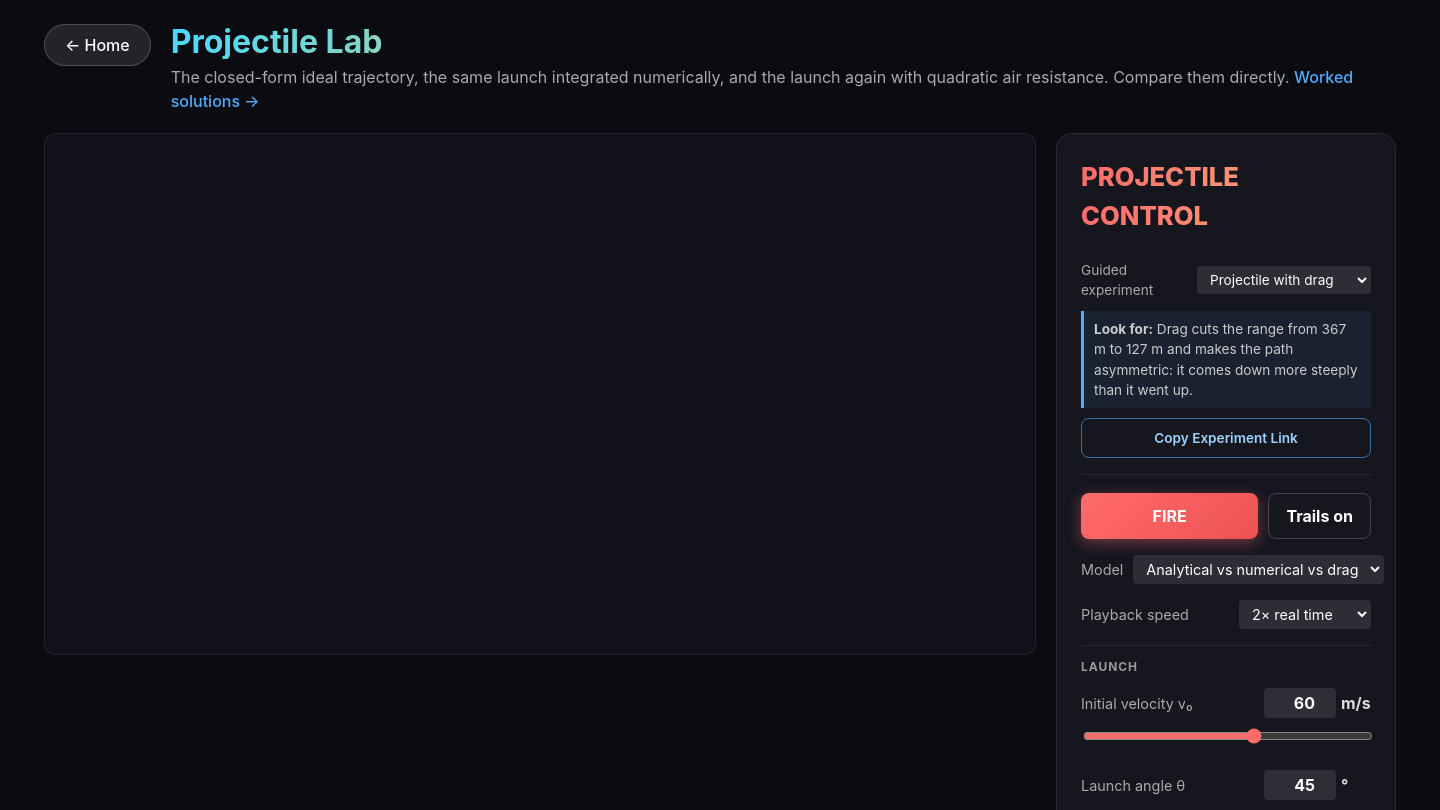
Projectile Lab › stop cancels the shot and unlocks the controls
This screenshot has width=1440, height=810.
What coordinates should you click on to do the following:
click the button "FIRE"
I would click on:
 (1170, 516)
Its box is [1081,493,1258,539].
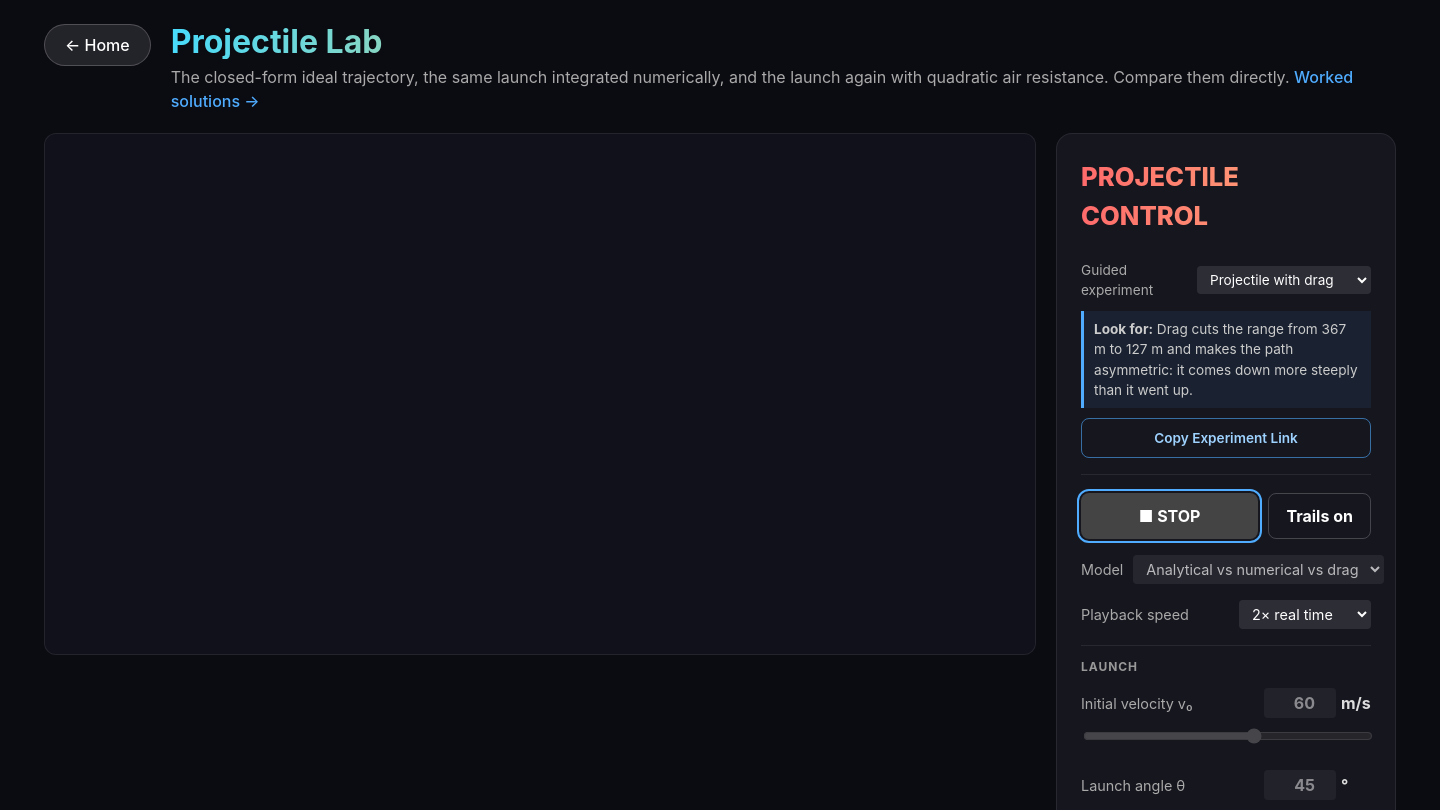
What coordinates should you click on to do the following:
click the button "■ STOP"
I would click on:
 (1170, 516)
Its box is [1081,493,1258,539].
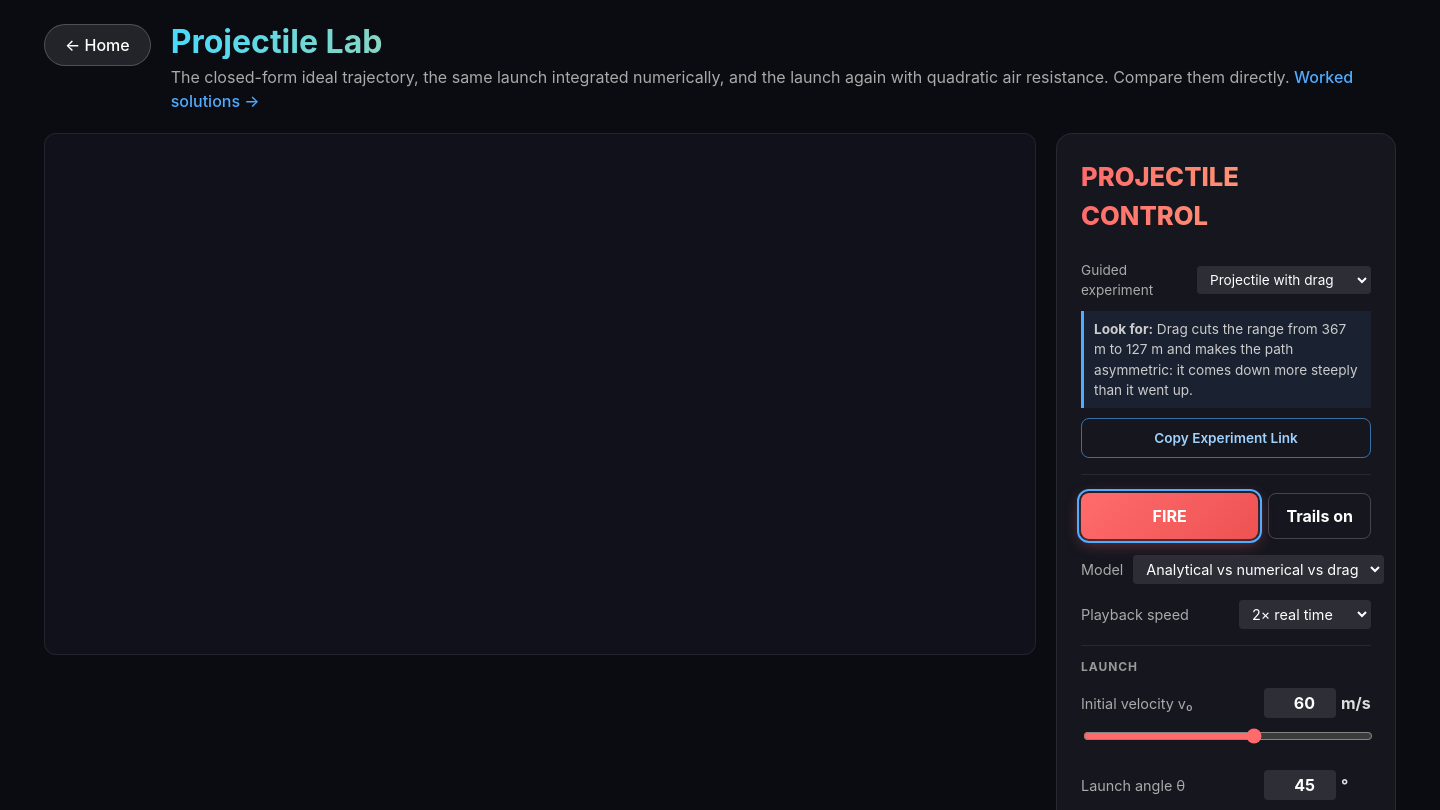
Expected: the slider labelled "Initial velocity v₀" is enabled, [1083,728,1373,744]
